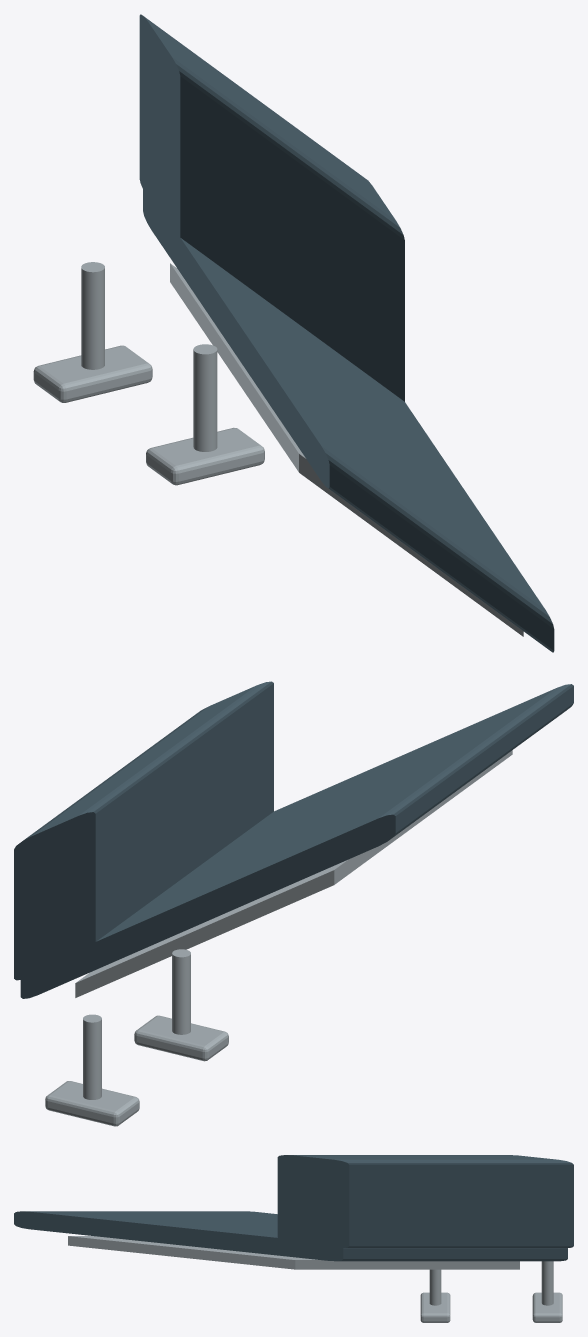
File: cabin_bench_length_150cm_left.glb
The picture shows the model from 3 angles, top to bottom: view 1: azimuth 30°, elevation 25°; view 2: azimuth 150°, elevation 25°; view 3: azimuth 270°, elevation 25°; orthographic projection. The views are drawn at different scales.
Parts seen in each view (by area): view 1: Bench upright back.018, Bench seat cushion.018, Bench support beam.018, Bench foot.047, Bench foot.046, Bench pedestal.046, Bench pedestal.047; view 2: Bench upright back.018, Bench seat cushion.018, Bench support beam.018, Bench foot.046, Bench foot.047, Bench pedestal.047, Bench pedestal.046; view 3: Bench upright back.018, Bench seat cushion.018, Bench support beam.018, Bench foot.046, Bench foot.047, Bench pedestal.047, Bench pedestal.046.
Boxes of the visible parts, <box> form: Bench upright back.018: <box>139,14,404,401</box>; Bench seat cushion.018: <box>143,187,554,652</box>; Bench support beam.018: <box>170,263,523,636</box>; Bench foot.047: <box>33,345,152,402</box>; Bench foot.046: <box>146,427,264,485</box>; Bench pedestal.046: <box>193,344,217,451</box>; Bench pedestal.047: <box>81,262,104,369</box>; Bench upright back.018: <box>14,681,273,980</box>; Bench seat cushion.018: <box>20,684,573,998</box>; Bench support beam.018: <box>75,750,512,997</box>; Bench foot.046: <box>134,1015,228,1061</box>; Bench foot.047: <box>45,1081,139,1126</box>; Bench pedestal.047: <box>83,1014,101,1099</box>; Bench pedestal.046: <box>172,949,190,1034</box>; Bench upright back.018: <box>277,1155,573,1247</box>; Bench seat cushion.018: <box>14,1211,567,1261</box>; Bench support beam.018: <box>68,1236,519,1269</box>; Bench foot.046: <box>420,1292,450,1322</box>; Bench foot.047: <box>532,1292,562,1322</box>; Bench pedestal.047: <box>541,1261,553,1305</box>; Bench pedestal.046: <box>429,1269,441,1305</box>.
Bounding box in the file's own units: 0.56 × 1.25 × 3.74.
